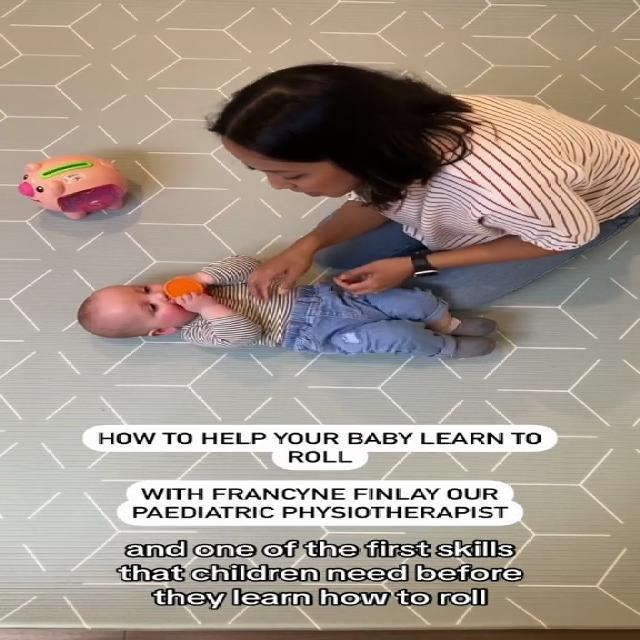baby: (76, 249, 507, 374)
